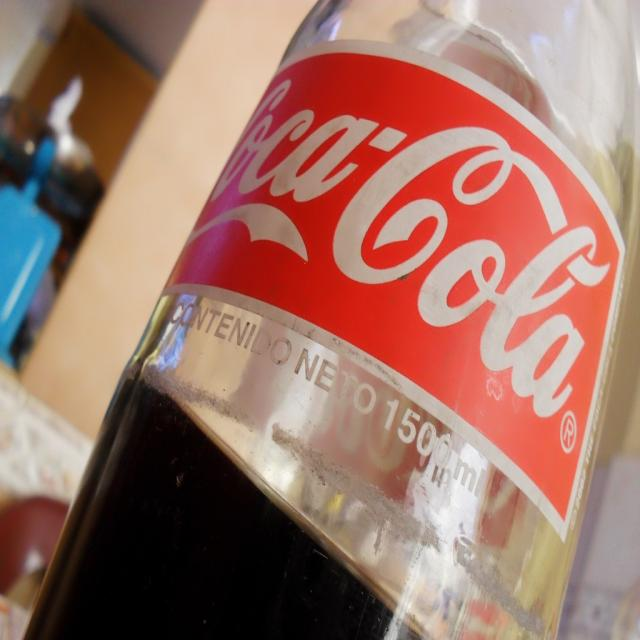cocacola: (186, 72, 618, 425)
